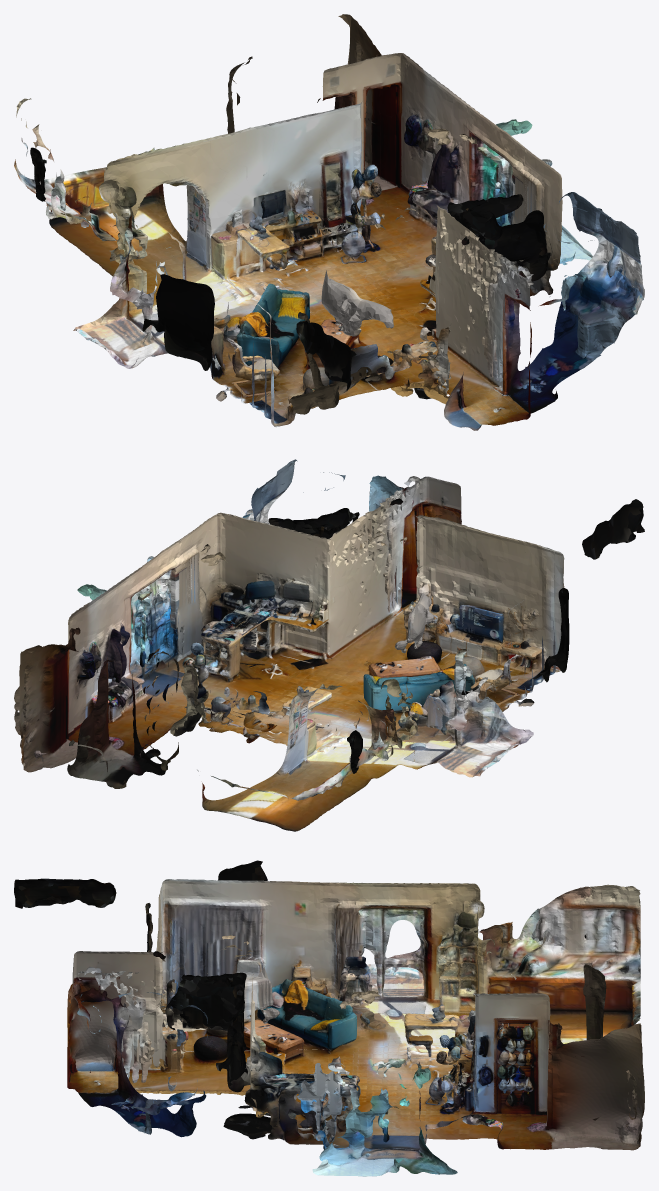
File: 1_6_2026_session1_cleaned.glb
3 views of the same model, one above another, from view 1: azimuth 30°, elevation 25°; view 2: azimuth 150°, elevation 25°; view 3: azimuth 270°, elevation 25° (orthographic). The views are drawn at different scales.
Size of the model in its own units: 9.74 by 3.73 by 12.59.
Materials: 3 (3 with a texture image).
